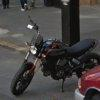Motorcycle: (8, 18, 83, 91)
